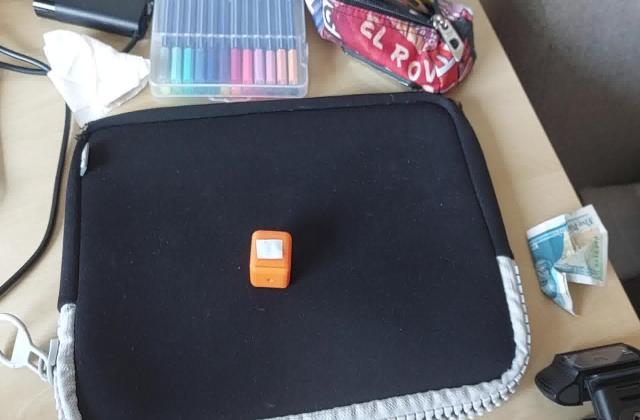sticker: (250, 230, 294, 290)
white: (253, 238, 287, 262)
